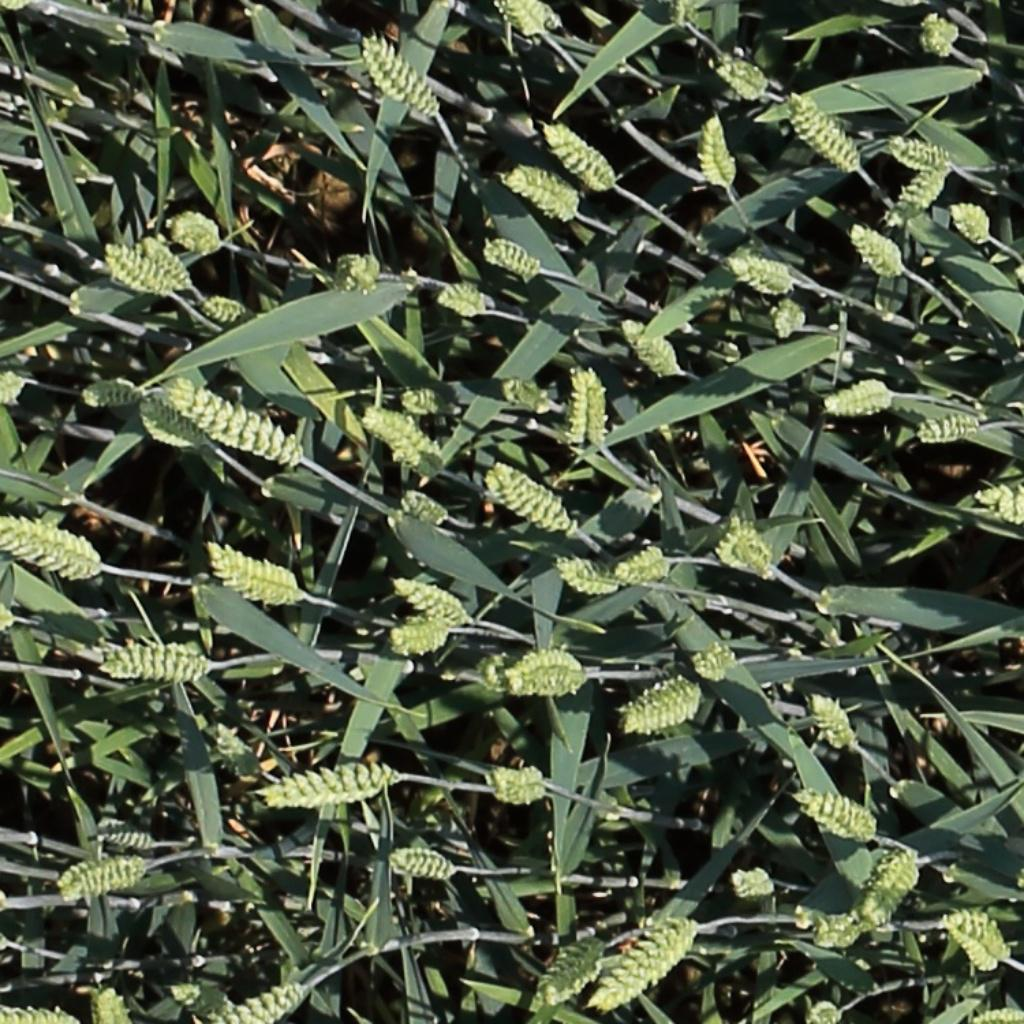0-0: (166, 369, 300, 464), (598, 917, 699, 1010), (0, 511, 108, 590), (256, 761, 402, 818), (204, 544, 319, 611), (478, 460, 578, 536), (612, 670, 704, 746), (361, 35, 441, 117), (787, 88, 865, 172), (50, 850, 157, 908), (537, 933, 608, 1010), (858, 845, 921, 927), (544, 120, 618, 189), (942, 906, 1016, 971), (887, 155, 954, 226), (549, 548, 628, 607), (367, 408, 445, 464), (94, 644, 213, 680), (794, 791, 879, 841), (618, 314, 684, 378), (504, 655, 604, 697), (391, 384, 484, 429), (207, 983, 305, 1024), (812, 378, 903, 422), (102, 241, 174, 294), (207, 719, 264, 785), (391, 577, 472, 623), (808, 690, 864, 755), (507, 166, 580, 215), (386, 621, 467, 664), (966, 477, 1024, 536), (162, 210, 238, 255), (130, 233, 191, 288), (850, 219, 907, 277), (472, 658, 552, 697), (389, 837, 461, 880), (719, 531, 779, 581), (139, 400, 204, 446), (704, 105, 737, 191), (689, 639, 744, 689), (616, 544, 678, 588), (567, 363, 596, 451), (94, 978, 146, 1024), (80, 375, 147, 410), (915, 414, 990, 445), (729, 255, 797, 289), (493, 0, 555, 36), (585, 364, 610, 453), (484, 238, 544, 275), (335, 249, 380, 297), (948, 199, 995, 244), (890, 135, 957, 166), (95, 821, 159, 853), (920, 9, 958, 61), (723, 863, 778, 898), (501, 376, 552, 412), (716, 62, 771, 95), (400, 491, 450, 524), (0, 1005, 86, 1024), (658, 0, 708, 32), (203, 294, 250, 328), (776, 290, 805, 344), (438, 288, 488, 312), (0, 367, 28, 409), (809, 1003, 843, 1022), (0, 599, 13, 626)
